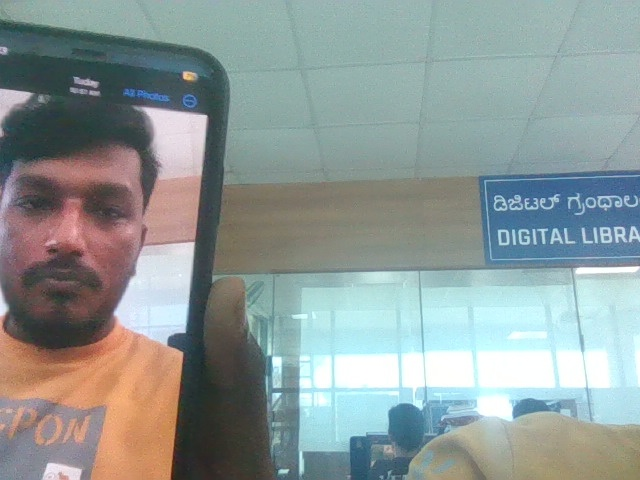fake: (0, 63, 200, 346)
